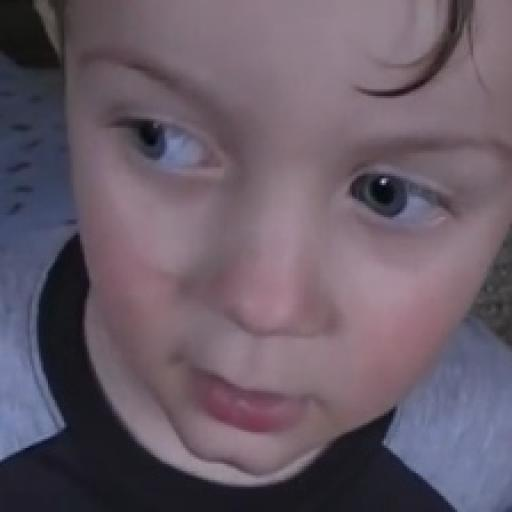Autism: (61, 4, 512, 512)
